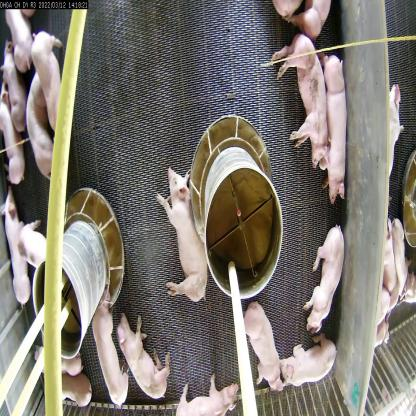Pig: (267, 34, 328, 173), (158, 161, 213, 309), (114, 311, 173, 403), (318, 56, 351, 201), (89, 296, 128, 415), (307, 215, 345, 334), (30, 25, 72, 130), (241, 296, 282, 399), (21, 74, 60, 182), (0, 199, 31, 307), (279, 334, 338, 390), (173, 372, 246, 415), (17, 219, 52, 279)
